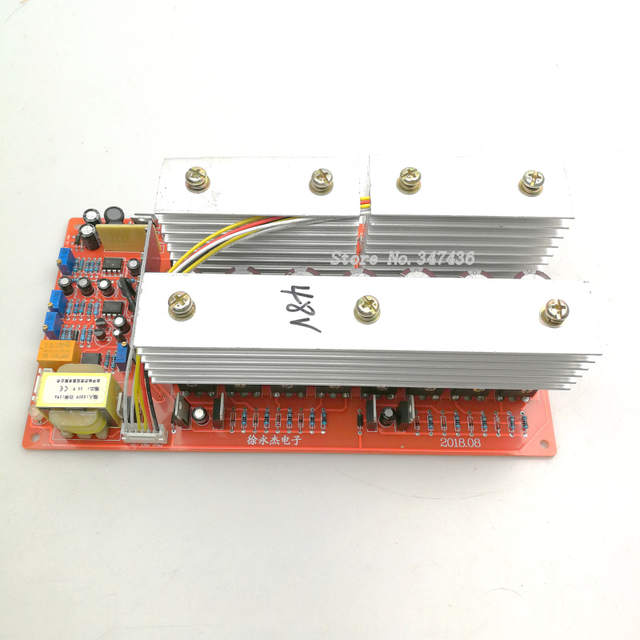capacitor: (79, 223, 101, 250), (76, 277, 94, 296), (379, 407, 396, 427), (192, 407, 209, 425), (98, 278, 114, 297), (58, 276, 74, 295), (127, 258, 142, 277), (113, 316, 130, 332), (83, 209, 101, 223), (112, 329, 125, 342)
resistor: (509, 415, 516, 431), (481, 415, 488, 430), (454, 415, 461, 430), (441, 415, 448, 430), (72, 259, 79, 273), (428, 415, 435, 429), (264, 411, 270, 427), (522, 416, 529, 429), (414, 416, 421, 429), (495, 415, 501, 430), (322, 411, 327, 428), (298, 412, 304, 426), (253, 411, 259, 425), (86, 328, 92, 342), (80, 328, 87, 340), (310, 411, 315, 427), (287, 410, 293, 423), (104, 352, 110, 365), (79, 301, 85, 314), (84, 259, 90, 272), (78, 258, 84, 271), (65, 303, 72, 314), (94, 260, 101, 271), (61, 328, 67, 340), (73, 302, 79, 314), (89, 260, 95, 272), (468, 417, 474, 429), (276, 412, 281, 426), (111, 355, 116, 369), (67, 327, 72, 340), (242, 410, 246, 426), (93, 303, 98, 315), (231, 410, 235, 424), (87, 303, 92, 314)
